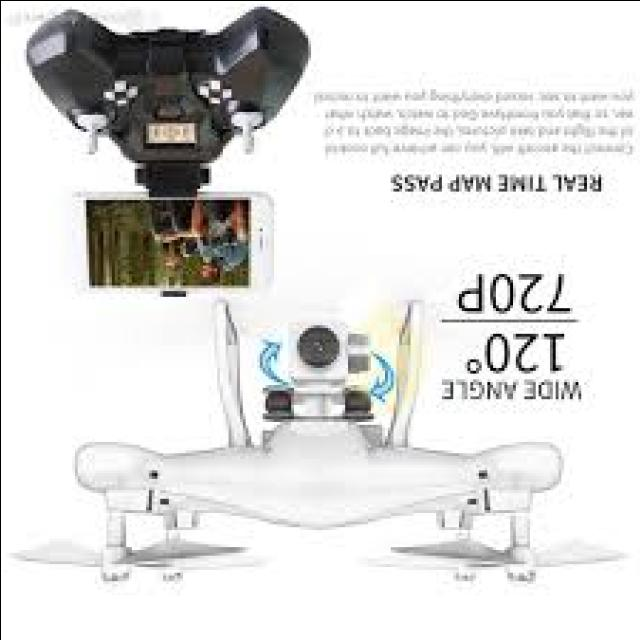drone: (34, 289, 626, 598)
